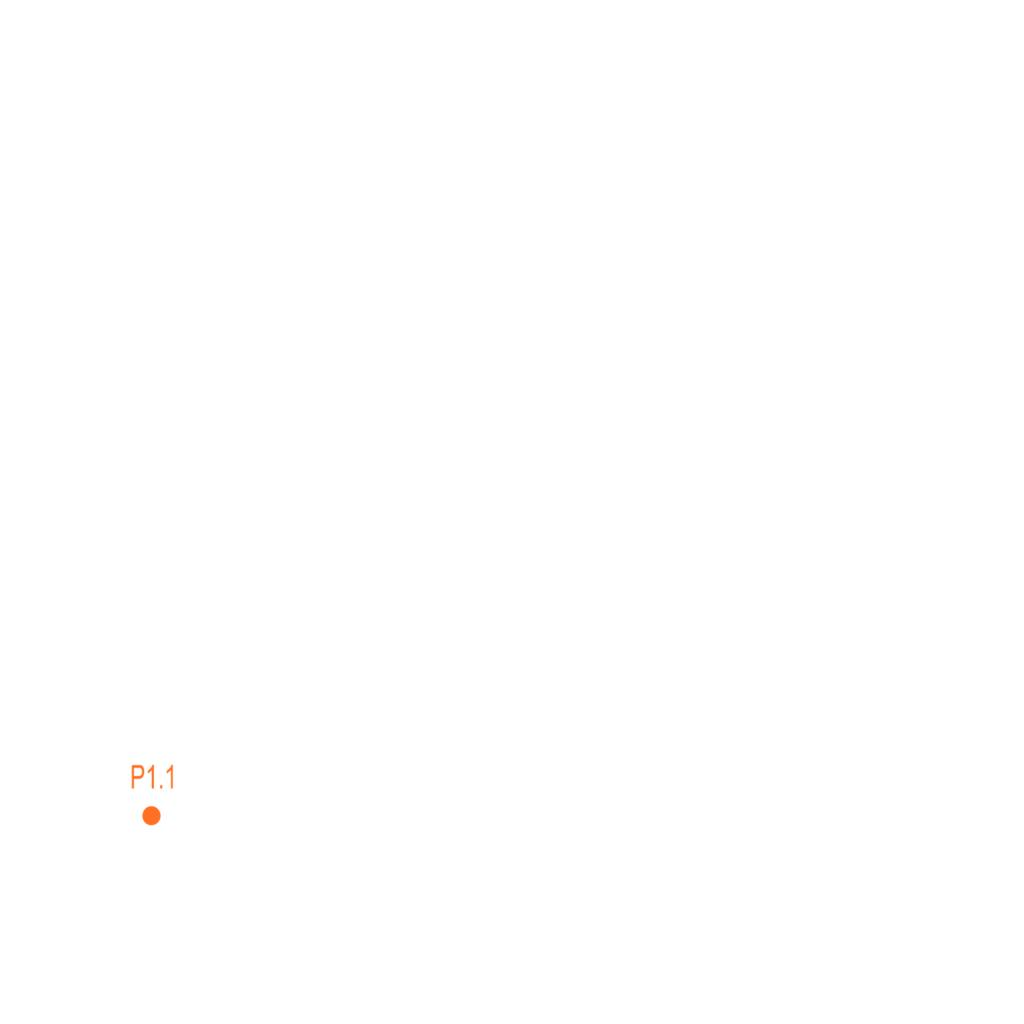Downlight_LED_Einbauleuchten_Flur_2: (130, 763, 176, 827)
